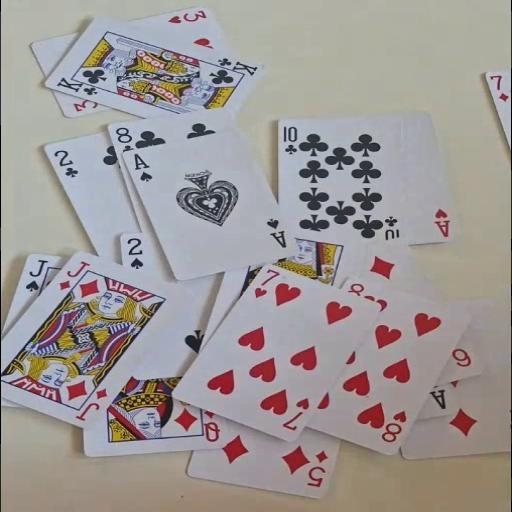10: (281, 124, 299, 155)
2: (50, 148, 80, 178), (126, 236, 146, 270)
3: (165, 8, 208, 24)
5: (304, 448, 330, 489)
7: (279, 395, 312, 432), (251, 267, 281, 299), (488, 73, 510, 102)
8: (378, 408, 408, 444), (113, 125, 135, 153)
A: (432, 206, 452, 238)
J: (72, 386, 109, 422), (55, 259, 91, 291)
K: (53, 74, 100, 96), (214, 55, 260, 77)
